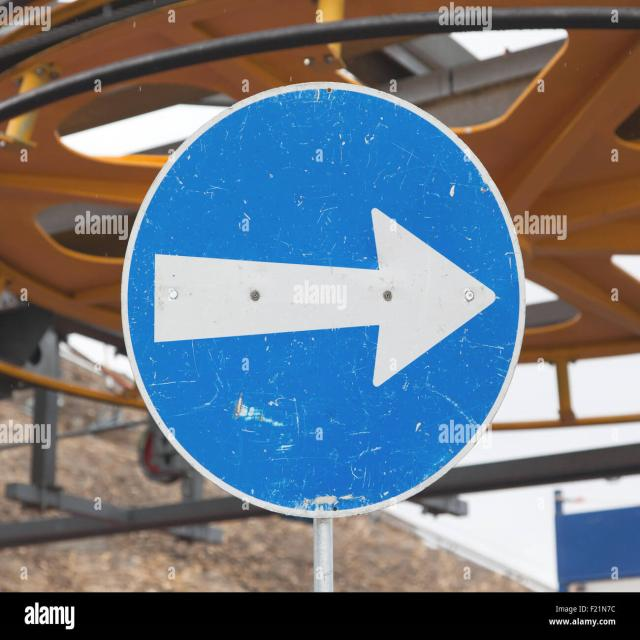Turn Right: (116, 67, 503, 526)
